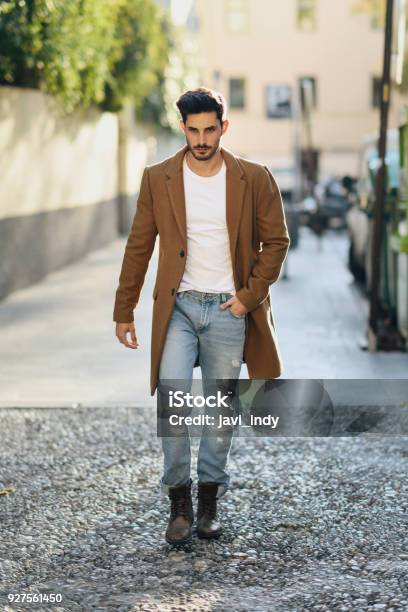person: (108, 84, 297, 550)
